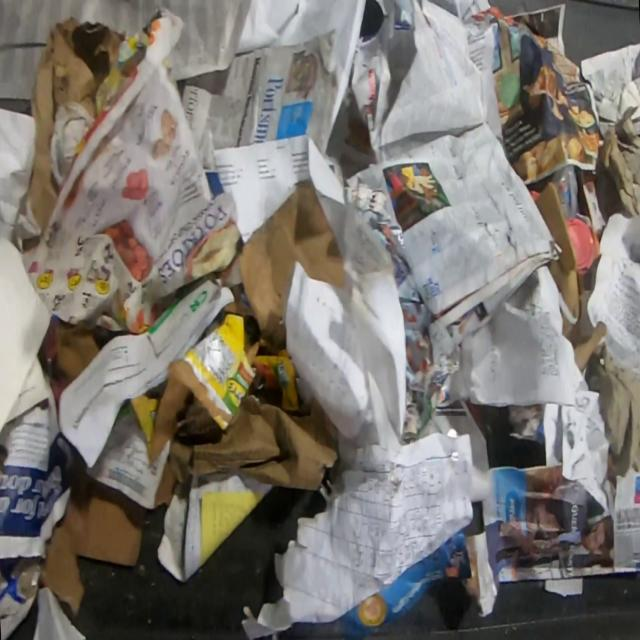cardboard: (128, 299, 300, 469), (23, 15, 124, 250), (236, 176, 345, 350), (39, 458, 148, 623), (168, 390, 340, 492), (534, 180, 607, 371), (600, 114, 640, 216), (0, 554, 42, 640), (52, 320, 99, 383)
rigid_plastic: (565, 217, 600, 275)
soft_plastic: (550, 164, 579, 221)
